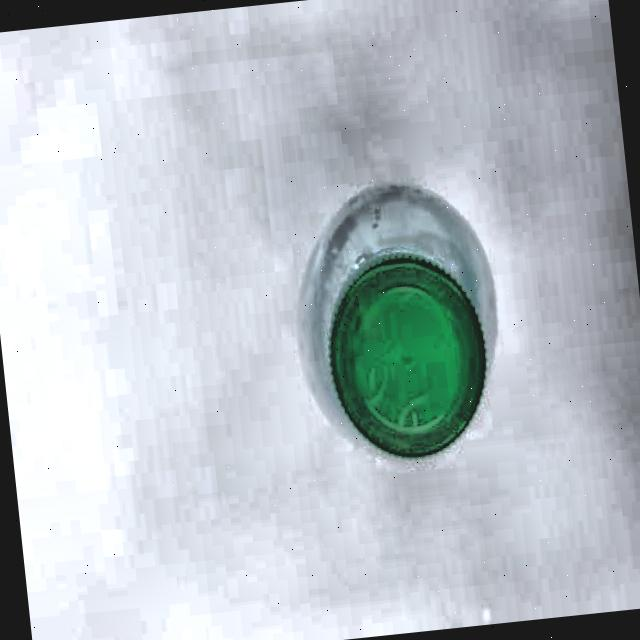plastic: (286, 170, 520, 479)
